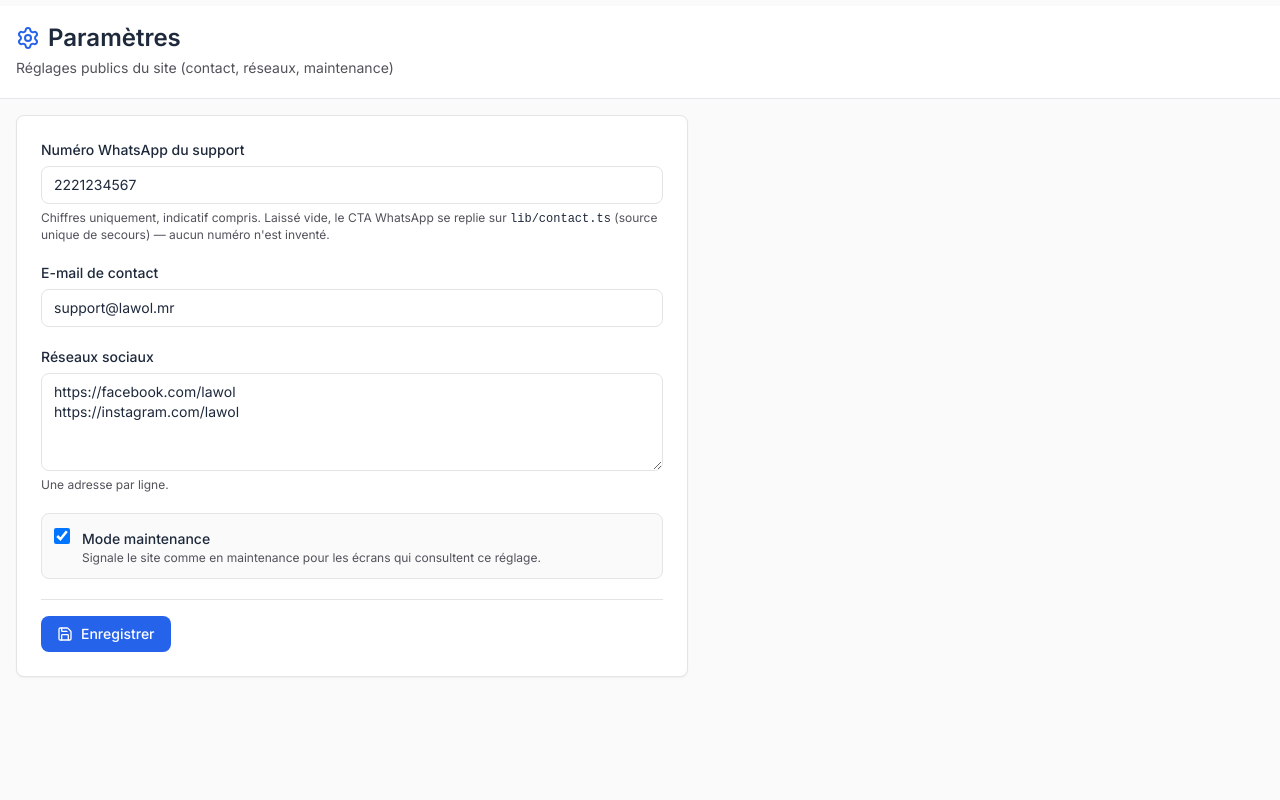
Test: page Paramètres — enregistrement › PUT les 4 clés (réseaux en tableau) et annonce le succès
The width and height of the screenshot is (1280, 800).
Replace the text in the field labelled "E-mail de contact" with "aide@lawol.mr" at (352, 308), box [41,289,663,327]
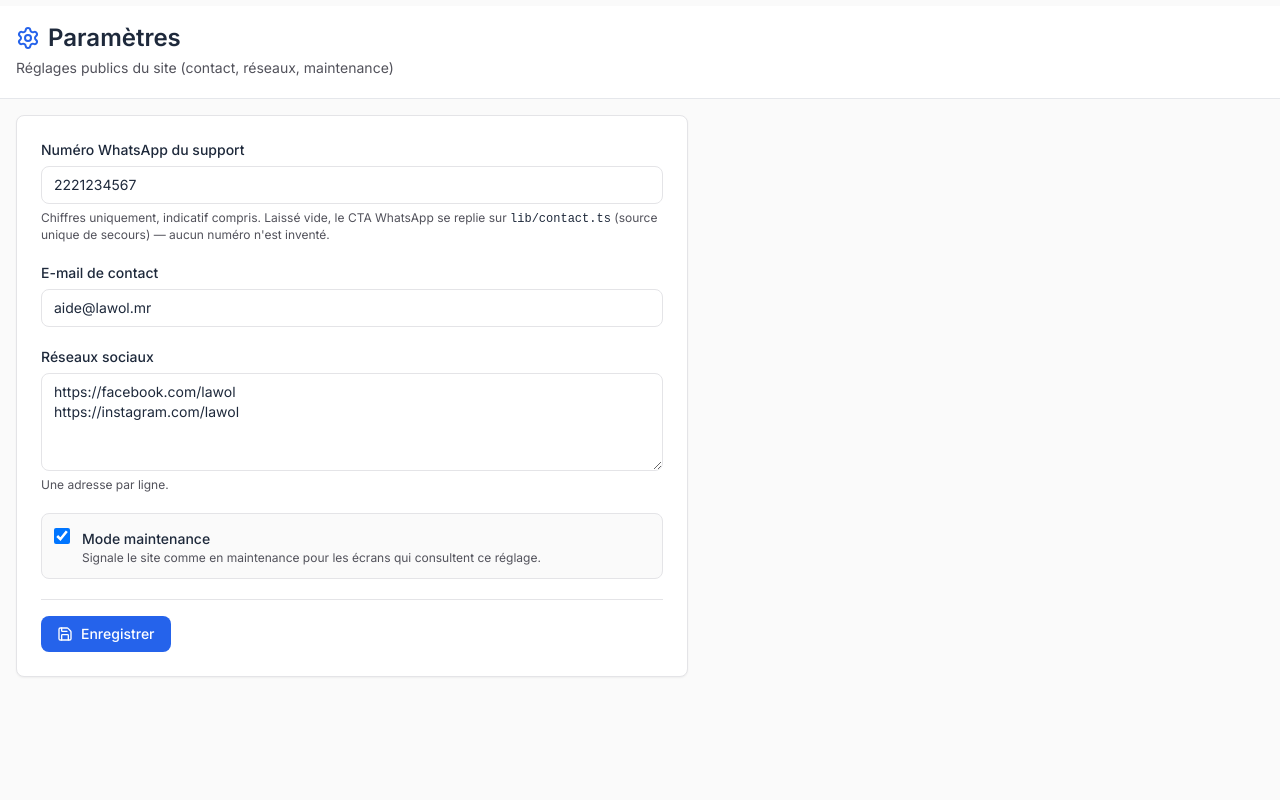
Click the button "Enregistrer".
click(106, 634)  # box [41,616,170,652]
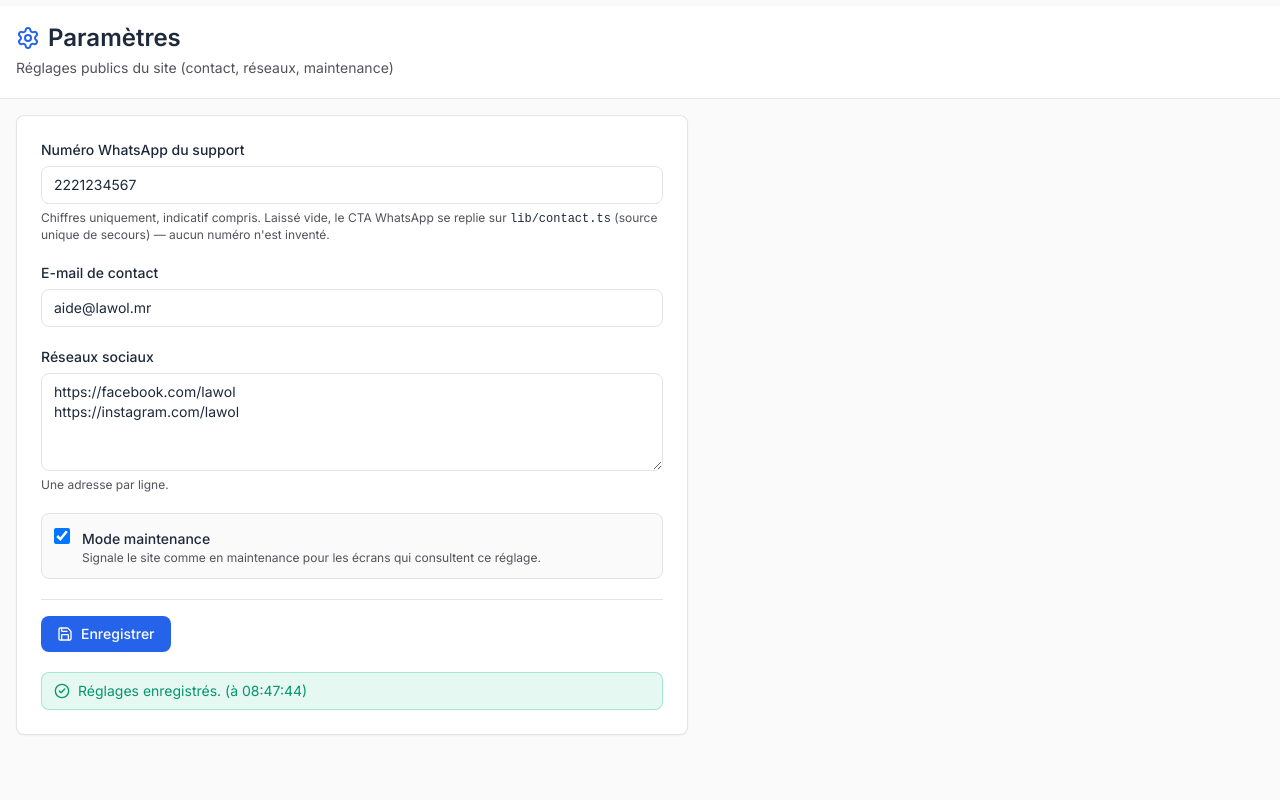
Now the message shows "enregistrés", box [78,682,221,699]
